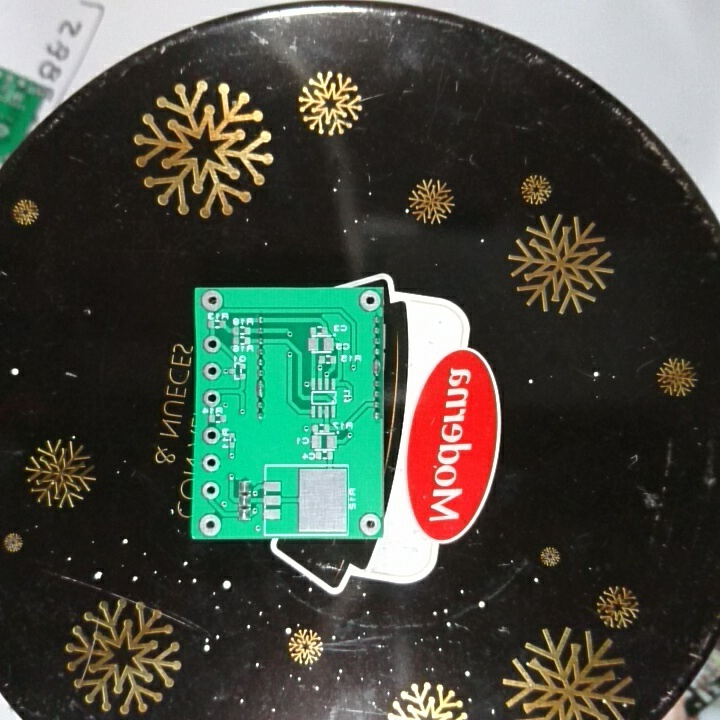F: (199, 288, 225, 314), (197, 512, 223, 536), (357, 511, 382, 535), (358, 289, 382, 313), (200, 452, 223, 475), (200, 333, 222, 355), (200, 387, 222, 409), (200, 425, 222, 447), (199, 481, 221, 502), (202, 360, 223, 381)
P: (254, 379, 268, 400), (371, 357, 382, 378)
